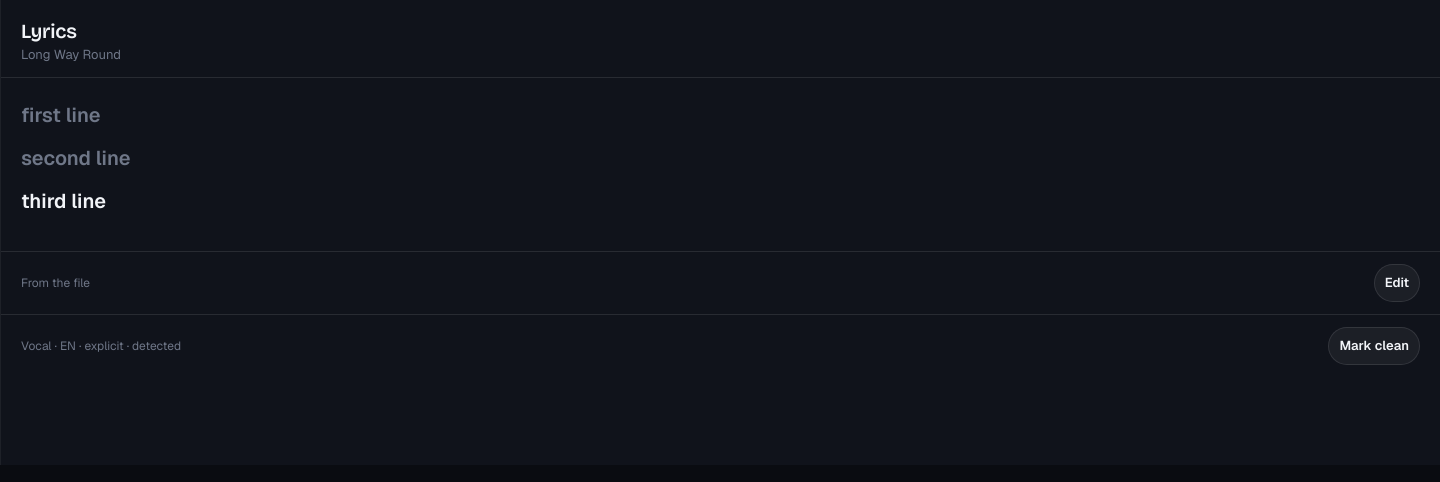
Test case: the lyrics panel › names the track's flags and lets an admin overrule the explicit one
Expected: the text "Vocal · EN · explicit · detected" is shown, [21,337,181,355]
Step 1. Click the button "Mark clean" → x=1374, y=346, box [1328,327,1420,365]
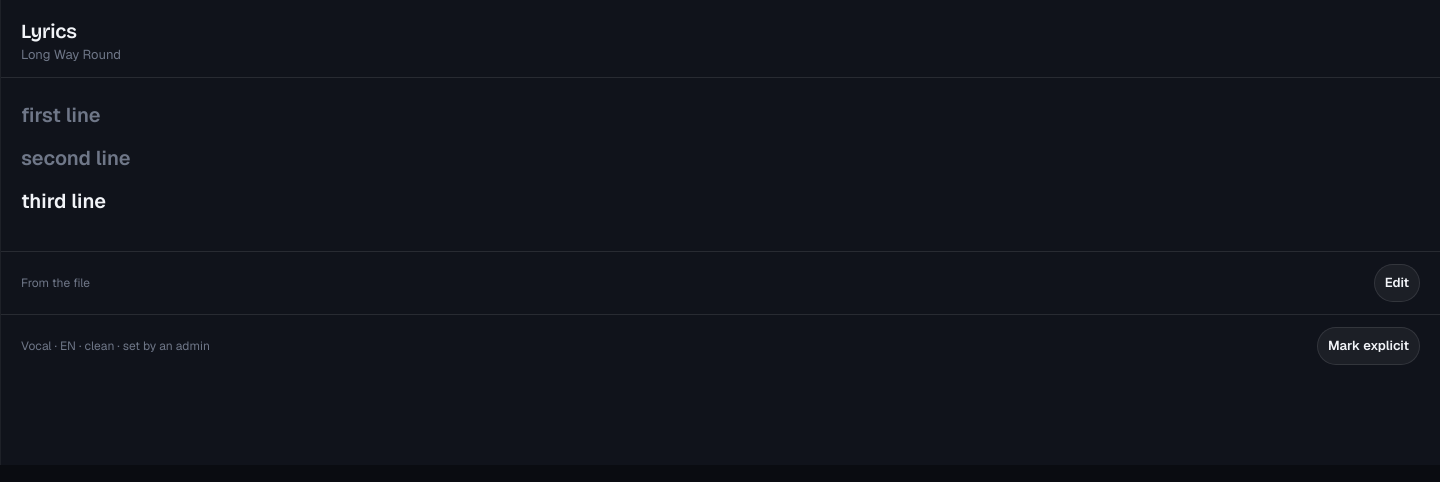
Expected: the text "Vocal · EN · clean · set by an admin" is shown, [21,337,210,355]
Expected: the button "Mark explicit" is shown, [1317,327,1420,365]
